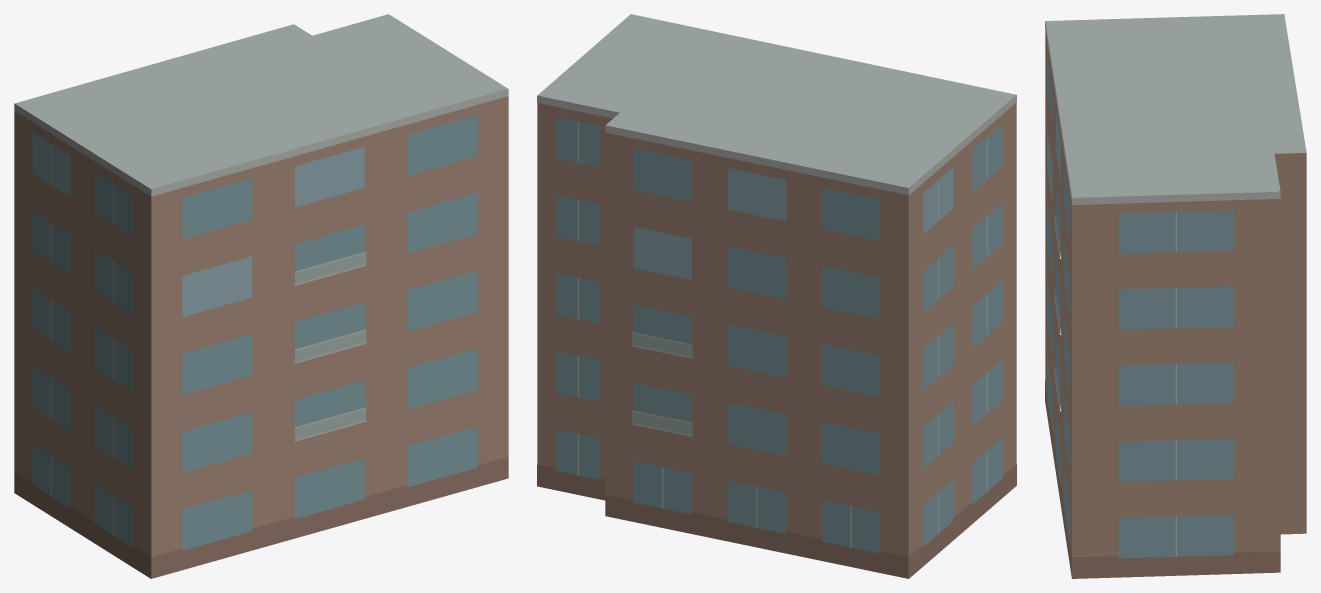
Rendered from survey-upis-32715252.glb.
The picture shows the model from 3 angles, left to right: view 1: azimuth 30°, elevation 25°; view 2: azimuth 150°, elevation 25°; view 3: azimuth 270°, elevation 25°; orthographic projection. The views are drawn at different scales.
Visible parts, largest first — view 1: survey-upis-32715252.tmp; view 2: survey-upis-32715252.tmp; view 3: survey-upis-32715252.tmp.
Boxes of the visible parts, bbox=[...] form: survey-upis-32715252.tmp: bbox=[14, 14, 508, 578]; survey-upis-32715252.tmp: bbox=[537, 14, 1016, 578]; survey-upis-32715252.tmp: bbox=[1045, 14, 1306, 578].
Size of the model in its own units: 13.58 by 13.1 by 8.16.
